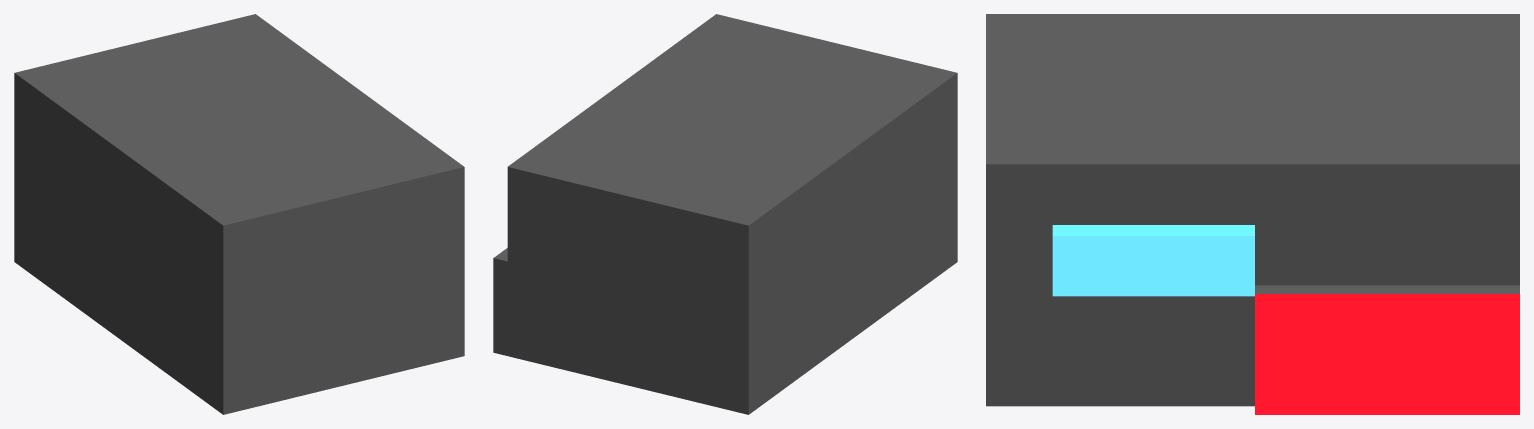
Rendered from plataforma.fbx.
3 views of the same model, side by side, from view 1: azimuth 30°, elevation 25°; view 2: azimuth 150°, elevation 25°; view 3: azimuth 270°, elevation 25° (orthographic). The views are drawn at different scales.
Parts seen in each view (by area): view 1: Cube.001; view 2: Cube.001; view 3: Cube.001.
Part boxes in pixels (box(x1,y1,x2,y2)): Cube.001: box(14, 14, 464, 414); Cube.001: box(493, 14, 957, 414); Cube.001: box(986, 14, 1519, 414).
Bounding box in the file's own units: 215 × 150 × 300.
